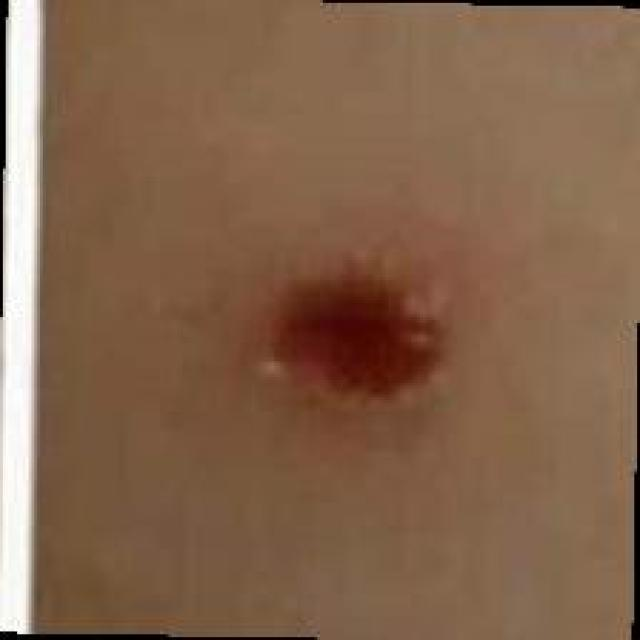others: (48, 0, 623, 639)
